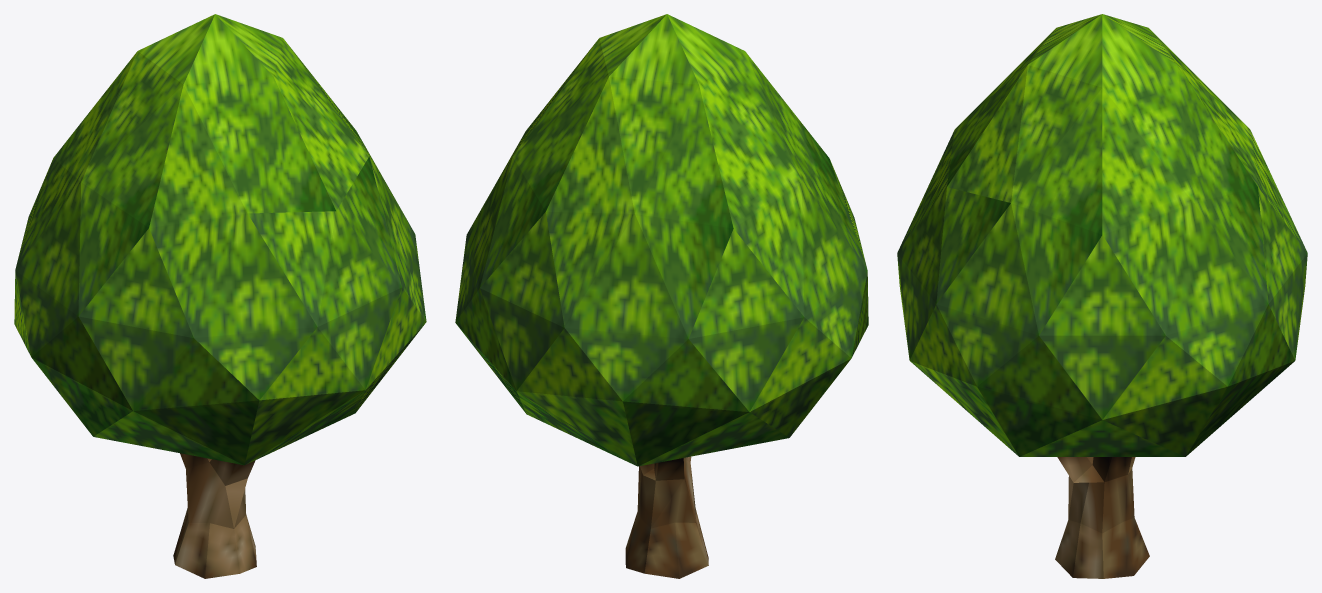
Rendered from Poly_Tree_01.obj.
3 renders of one model, left to right at view 1: azimuth 30°, elevation 25°; view 2: azimuth 150°, elevation 25°; view 3: azimuth 270°, elevation 25°, orthographic.
Parts seen in each view (by area): view 1: Icosphere.001, Plane; view 2: Icosphere.001, Plane; view 3: Icosphere.001, Plane.
Part boxes in pixels (<box>): Icosphere.001: <box>14,14,426,465</box>; Plane: <box>173,453,256,578</box>; Icosphere.001: <box>455,14,868,466</box>; Plane: <box>625,456,708,578</box>; Icosphere.001: <box>897,14,1307,456</box>; Plane: <box>1055,457,1149,578</box>.
Bounding box in the file's own units: 3.02 × 4.41 × 2.98.
1 material, 1 textured.
